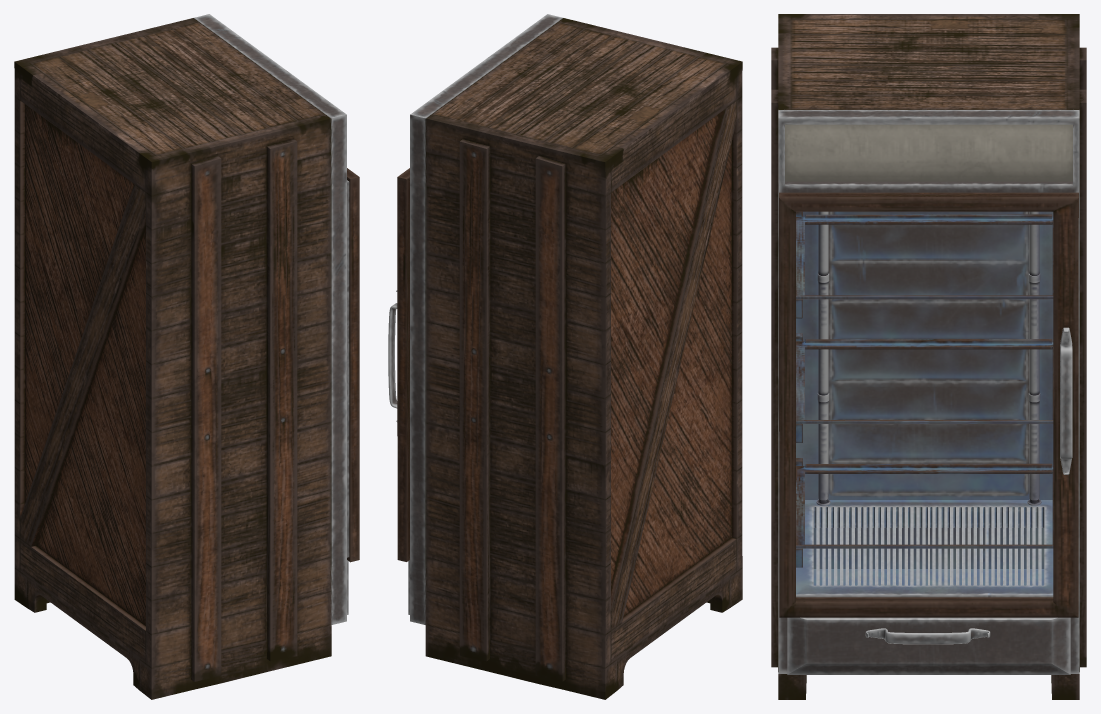
Rendered from Fridge.fbx.
3 renders of one model, left to right at view 1: azimuth 30°, elevation 25°; view 2: azimuth 150°, elevation 25°; view 3: azimuth 270°, elevation 25°, orthographic. The views are drawn at different scales.
Visible parts, largest first — view 1: Door_low; view 2: Door_low; view 3: Door_low.
Part boxes in pixels (box(x1,y1,x2,y2)): Door_low: box(14, 14, 359, 699); Door_low: box(388, 14, 742, 699); Door_low: box(771, 14, 1086, 699).
Bounding box in the file's own units: 526 × 1224 × 594.
